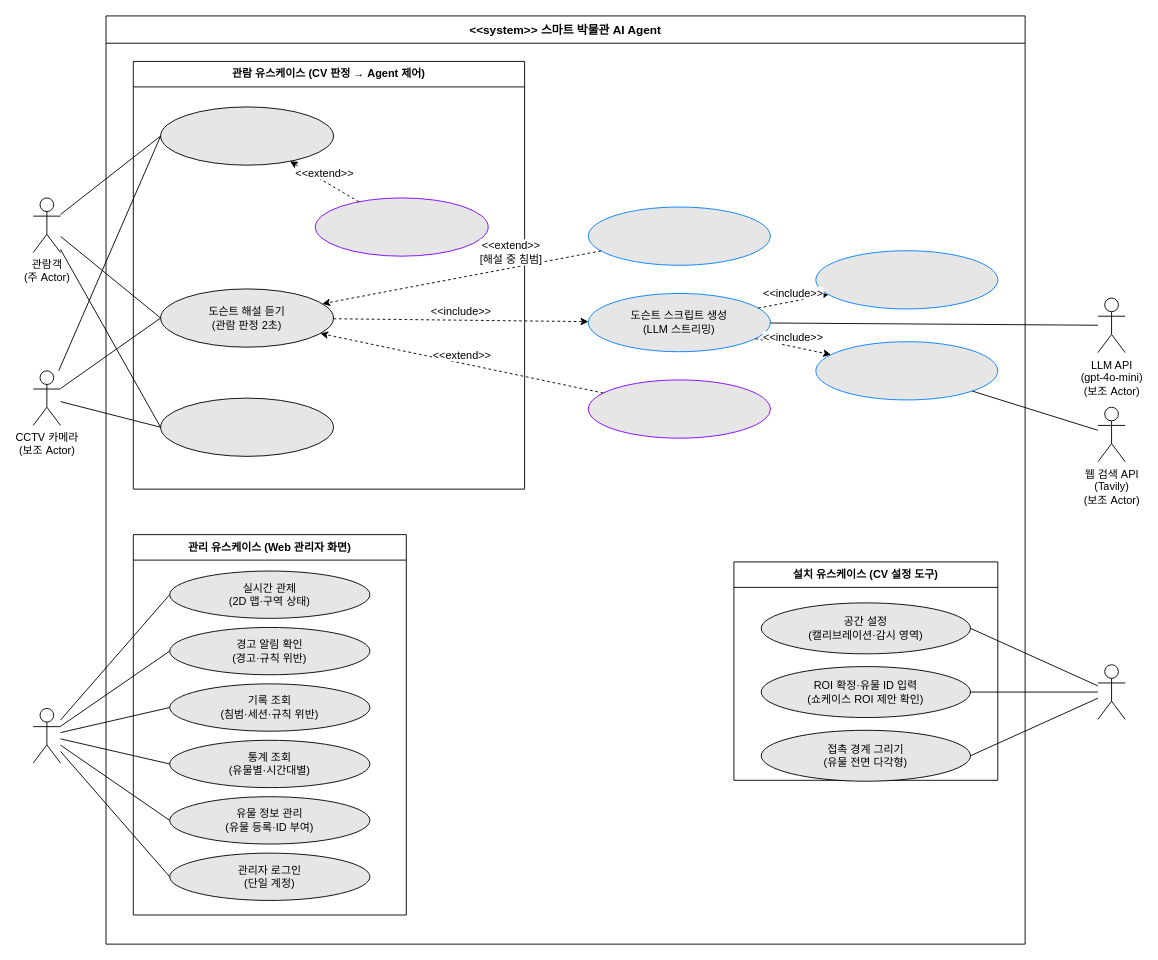
Some shapes in this 1158 by 960 pixel diagram are drawn without their labels. Each missing label, with the centre of its shape:
관리자 (주 Actor): (46,735)
금지물품 안내 받기 (테이크아웃컵): (247,426)
대체 해설 재생 (5초 초과·생성 실패): (678,408)
도록 검색 (BM25+벡터+Re-ranking): (906,279)
설치 담당자 (주 Actor): (1111,691)
위험 경고 받기 (주의·경고 멘트·조명): (247,135)
접촉 시도 경고 (Pose 손목·팔꿈치): (401,226)
최신 소식 검색 (허용 도메인·하루 캐시): (906,370)
해설 일시정지·재개 (연결 멘트): (678,235)
